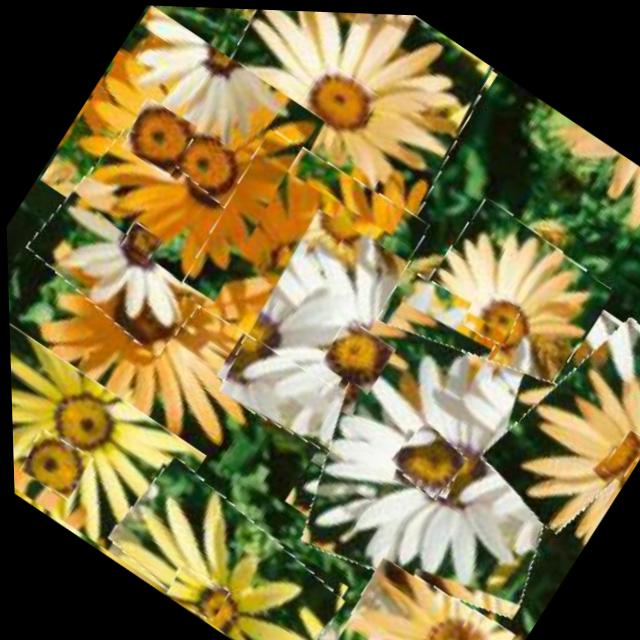Flower: (257, 281, 619, 640), (200, 196, 520, 512), (33, 1, 328, 299), (186, 5, 508, 250), (166, 118, 436, 394), (16, 116, 262, 362), (7, 319, 207, 572), (96, 451, 354, 640), (396, 189, 617, 409), (471, 290, 640, 547), (296, 547, 519, 640), (383, 415, 468, 501), (115, 94, 200, 179), (298, 57, 381, 139), (315, 314, 395, 395), (12, 426, 91, 503), (456, 280, 524, 347), (159, 558, 228, 623), (597, 422, 640, 480), (116, 218, 163, 266)
